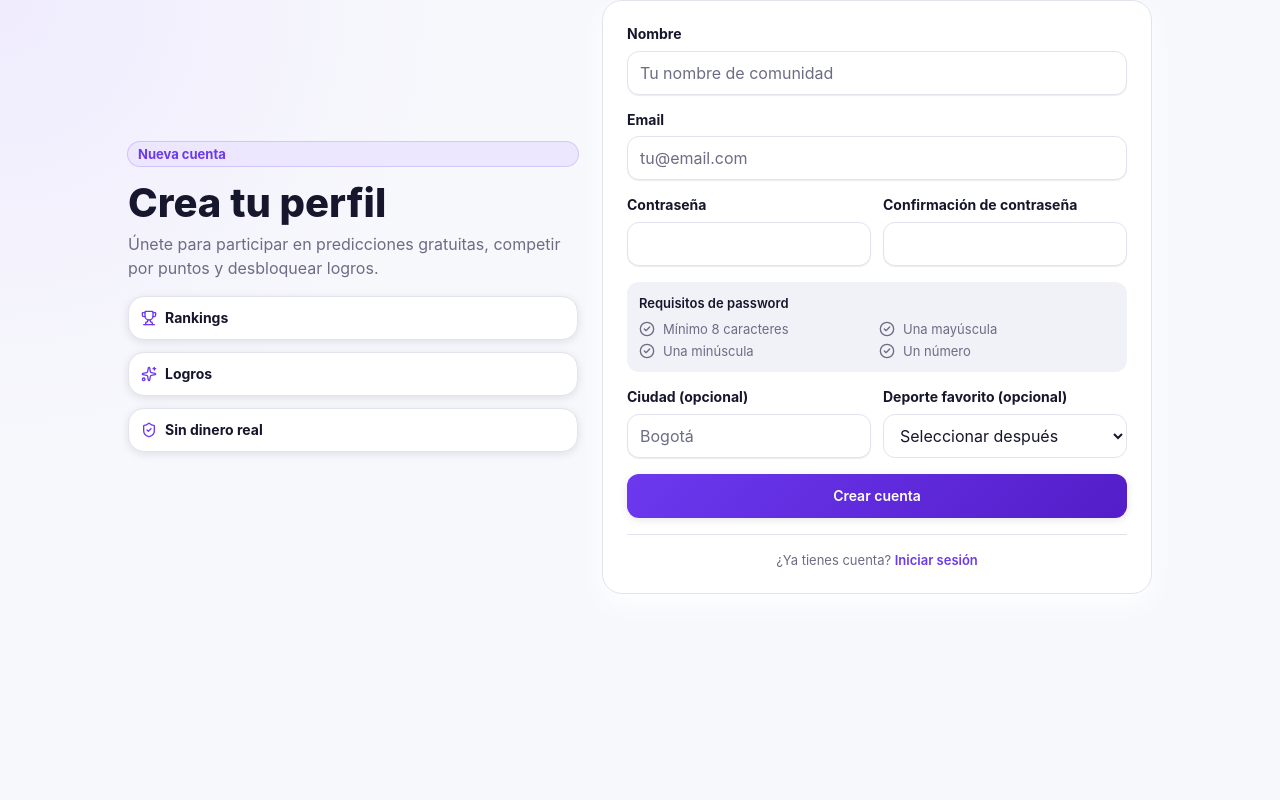
RegisterPage › shows duplicated email error
Type "Usuario Demo" into the field labelled "Nombre" at (877, 72), box [627,50,1127,94]
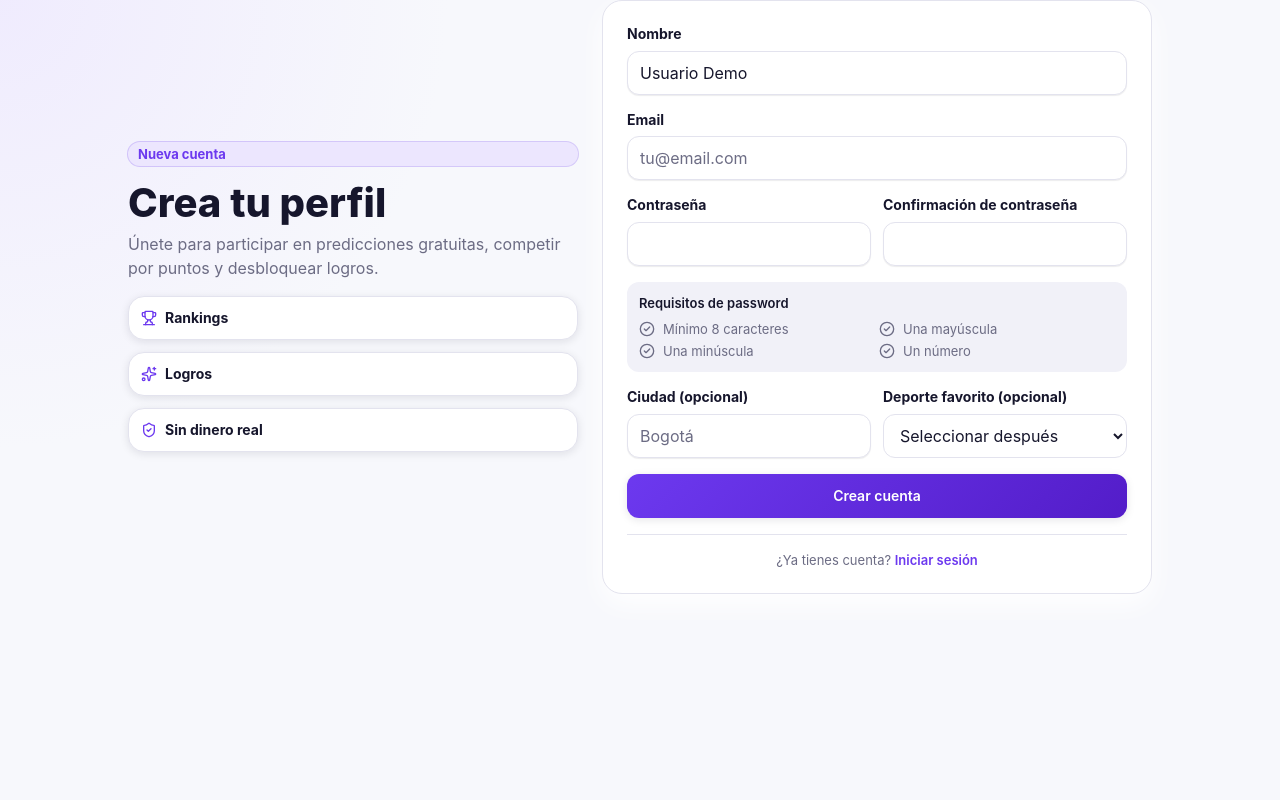
Type "usuario1@competencias.local" into the field labelled "Email" at (877, 158), box [627,136,1127,180]
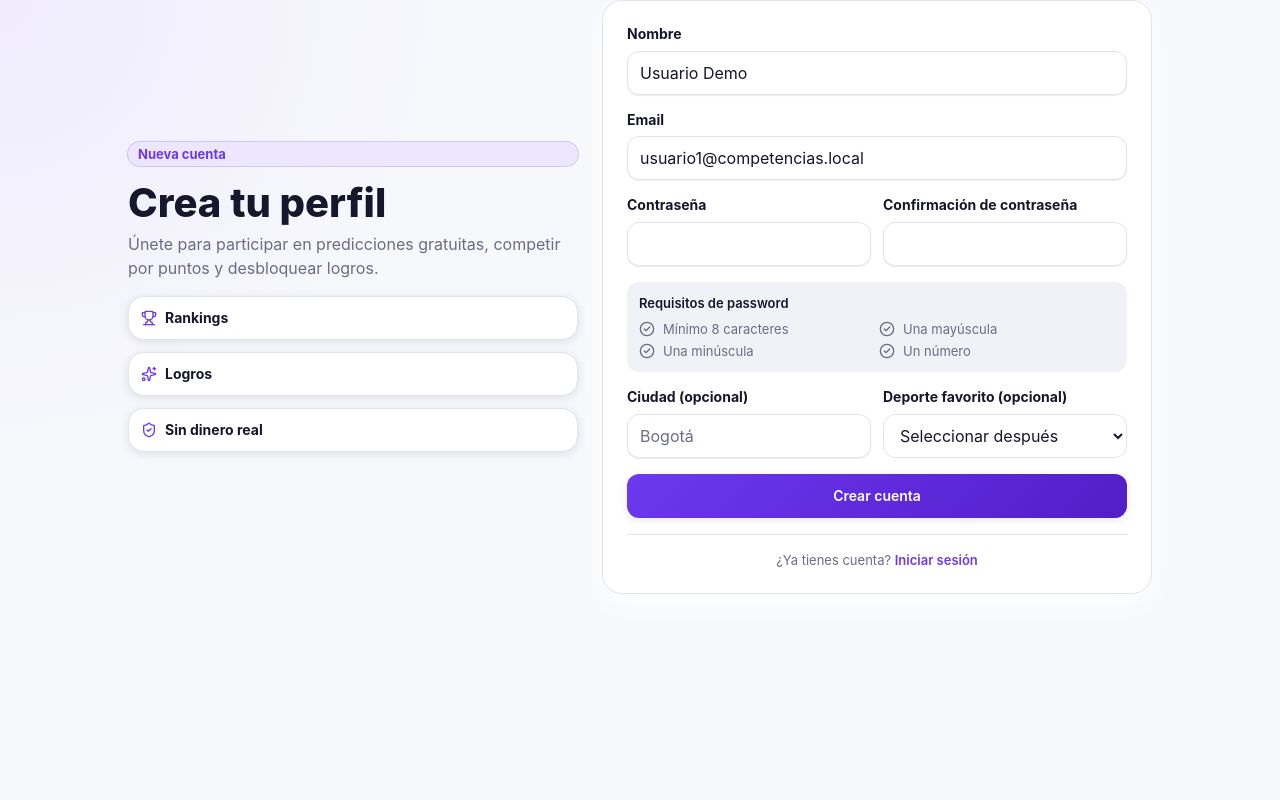
Type "Password1" into the password field labelled "Contraseña" at (749, 244), box [627,222,871,266]
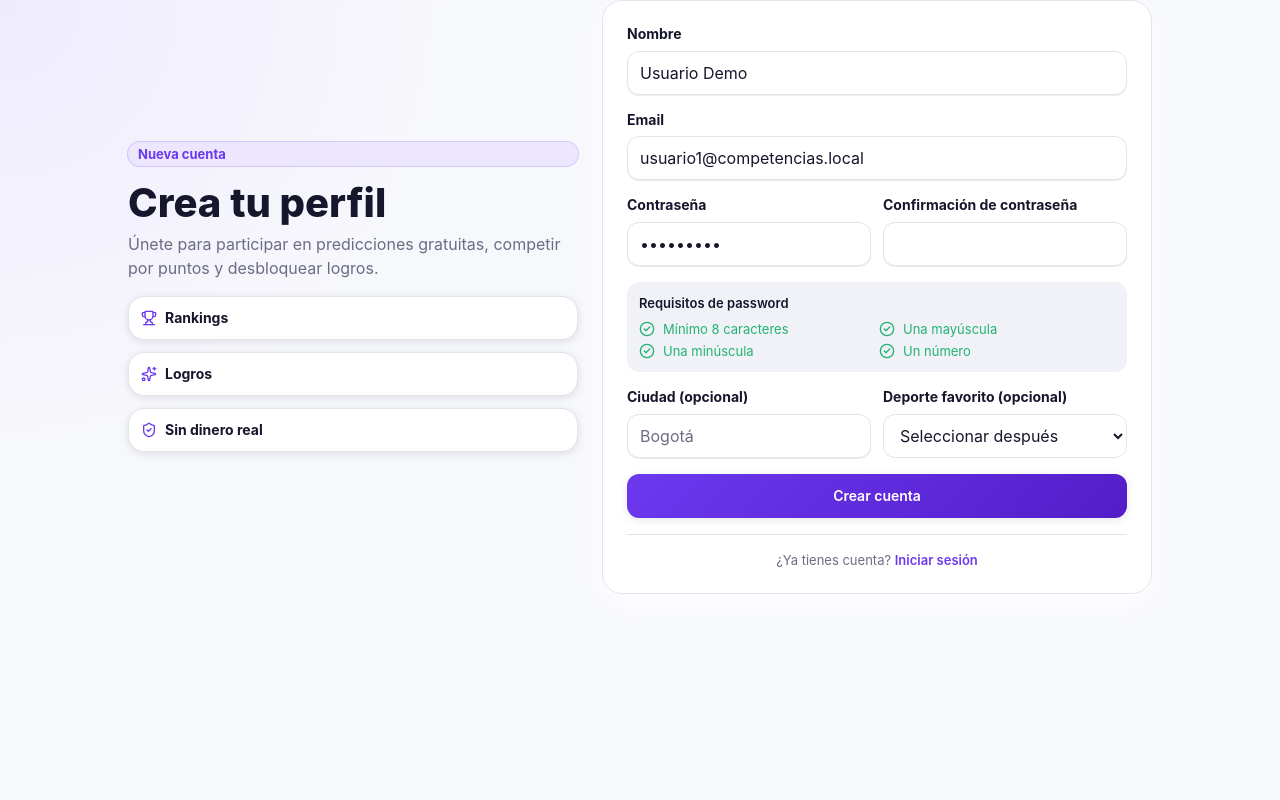
Type "Password1" into the password field labelled "Confirmación de contraseña" at (1005, 244), box [883,222,1127,266]
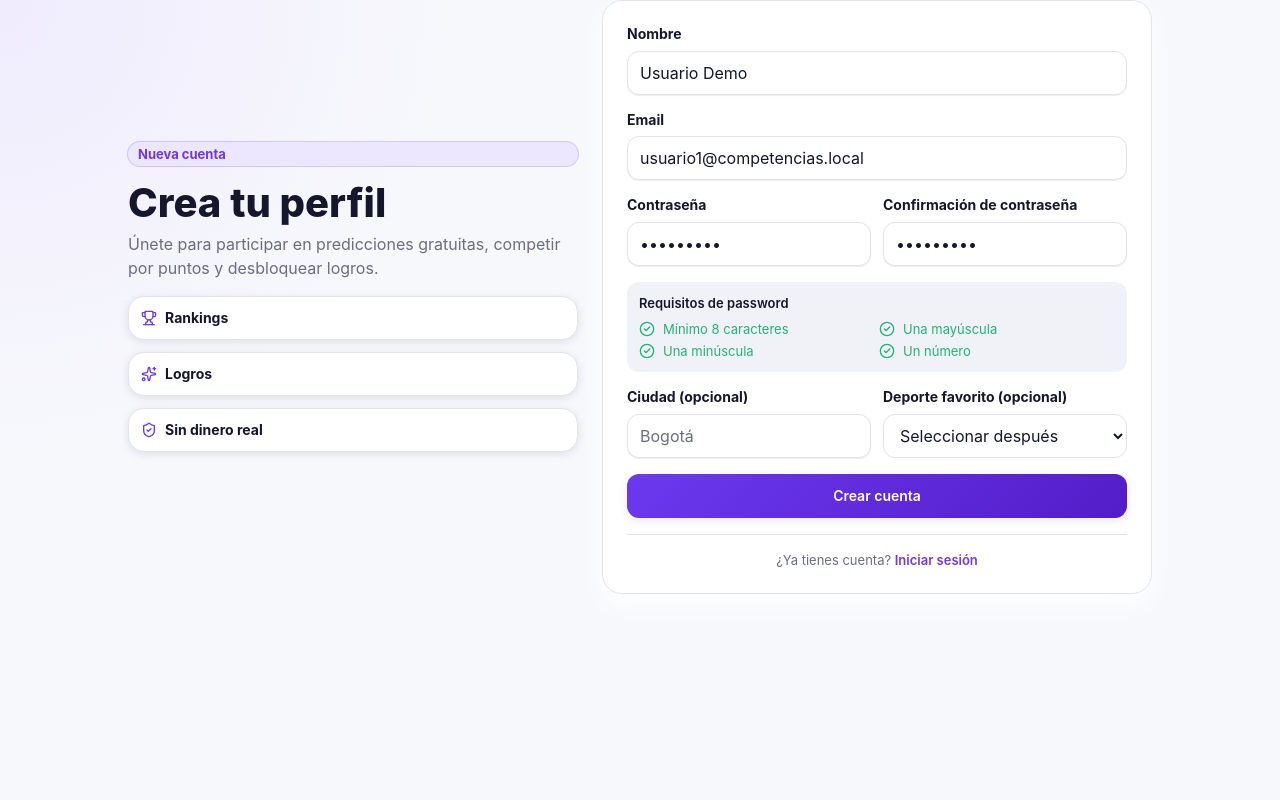
Click the button "Crear cuenta" at (877, 496), box [627,474,1127,518]
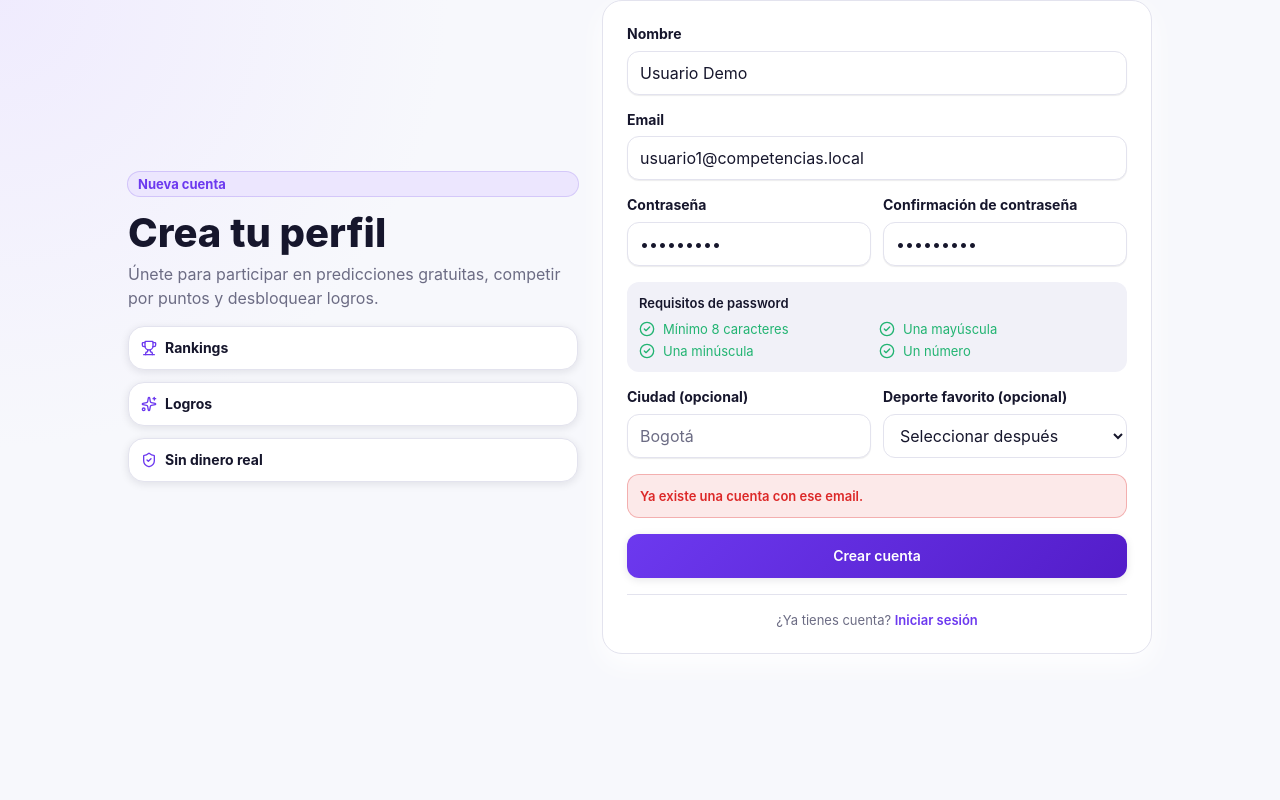
Result: the text "Ya existe una cuenta con ese email." is shown at [627,474,1127,518]
